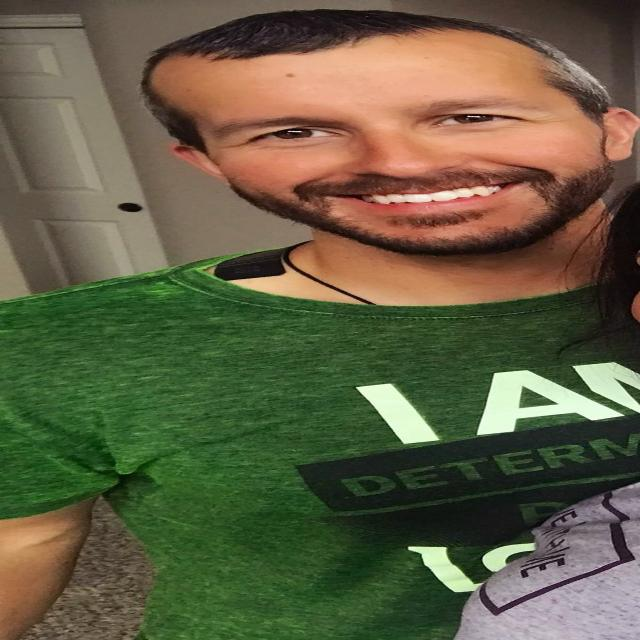human: (3, 36, 640, 640)
